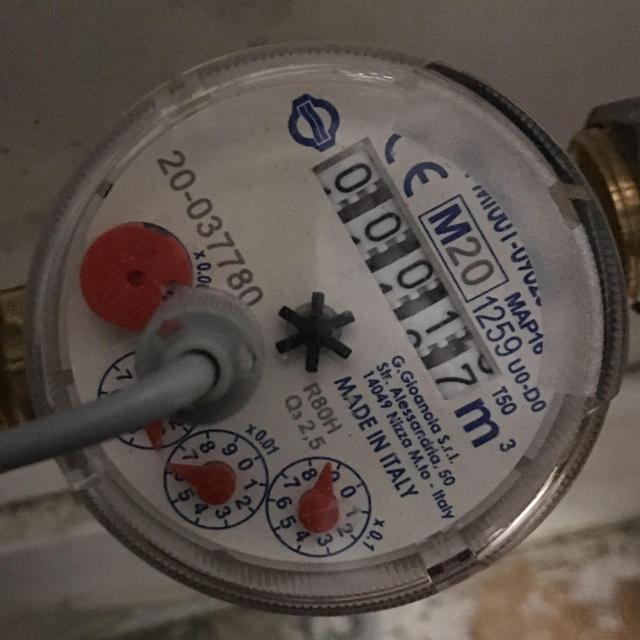gaz_meter: (26, 49, 626, 618)
indication: (308, 140, 501, 405)
